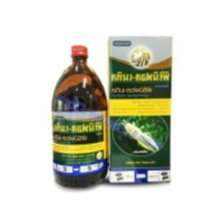book: (103, 31, 178, 186)
insecticide: (48, 40, 112, 191)
